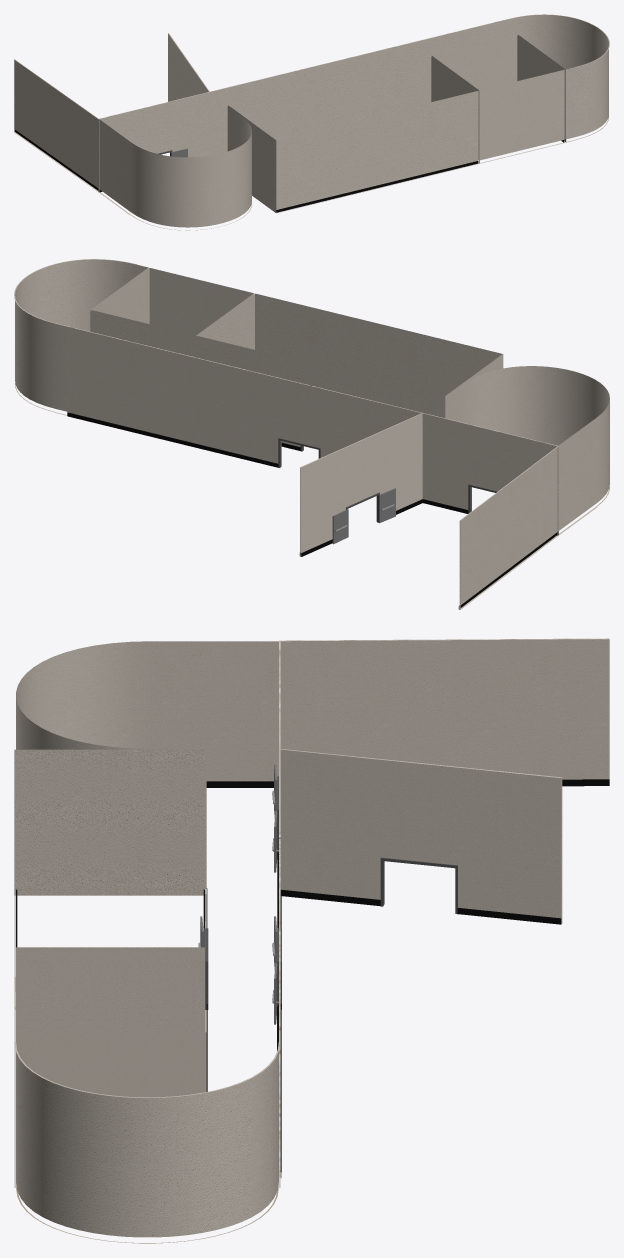
Rendered from new walls.fbx.
3 views of the same model, one above another, from view 1: azimuth 30°, elevation 25°; view 2: azimuth 150°, elevation 25°; view 3: azimuth 270°, elevation 25° (orthographic). The views are drawn at different scales.
Visible parts, largest first — view 1: Wall_Cafe Exterior, Wall_EH2 Exterior, Wall_Cafe+GIft Shop, Wall_Lobby+Hall+EH1+EH2, Wall_Cafe Interior1, Wall_EH3, Wall_EH1 Exterior, Wall_Cafe Interior2, WallDoorway_Cafe, WallDoorway_EH1+EH2, Wall_Lobby+EH1, WallDoorway_Lobby+Hall (+2 smaller); view 2: Wall_Lobby+Hall+EH1+EH2, Wall_EH2 Exterior, Wall_Cafe Exterior, Wall_EH3, Wall_Cafe+GIft Shop, Wall_EH1 Exterior, Wall_Lobby+EH1, Wall_Cafe Interior1, WallDoorway_Lobby+Hall, WallDoorway_EH1+EH2, WallDoorway_Lobby+EH1, WallDoorway_Cafe (+3 smaller); view 3: Wall_EH1 Exterior, Wall_EH3, Wall_Lobby+EH1, Wall_EH2 Exterior, Wall_Cafe Interior2, Wall_Cafe+GIft Shop, WallDoorway_Lobby+EH1, WallDoorway_Cafe+GIft Shop, Wall_Lobby+Hall+EH1+EH2.
Part boxes in pixels (x1,y1,x2,y2): Wall_Cafe Exterior: (276,90,478,213); Wall_EH2 Exterior: (99,105,251,230); Wall_Cafe+GIft Shop: (275,34,566,212); Wall_Lobby+Hall+EH1+EH2: (98,21,499,192); Wall_Cafe Interior1: (228,56,431,139); Wall_EH3: (500,14,609,142); Wall_EH1 Exterior: (14,59,99,191); Wall_Cafe Interior2: (229,106,276,212); WallDoorway_Cafe: (312,77,344,130); WallDoorway_EH1+EH2: (138,101,170,153); Wall_Lobby+EH1: (168,33,209,101); WallDoorway_Lobby+Hall: (294,63,326,88); Wall_Lobby+Hall+EH1+EH2: (67,326,558,535); Wall_EH2 Exterior: (444,366,609,535); Wall_Cafe Exterior: (255,293,502,396); Wall_EH3: (14,259,148,415); Wall_Cafe+GIft Shop: (90,267,254,357); Wall_EH1 Exterior: (458,446,557,609); Wall_Lobby+EH1: (299,413,422,556); Wall_Cafe Interior1: (196,336,444,450); WallDoorway_Lobby+Hall: (280,378,319,447); WallDoorway_EH1+EH2: (470,424,509,491); WallDoorway_Lobby+EH1: (346,433,377,506); WallDoorway_Cafe: (302,361,341,392); Wall_EH1 Exterior: (280,638,609,786); Wall_EH3: (14,1032,280,1243); Wall_Lobby+EH1: (280,749,562,924); Wall_EH2 Exterior: (16,641,278,895); Wall_Cafe Interior2: (14,749,205,895); Wall_Cafe+GIft Shop: (14,947,281,1178); WallDoorway_Lobby+EH1: (383,759,455,864); WallDoorway_Cafe+GIft Shop: (73,947,147,1031); Wall_Lobby+Hall+EH1+EH2: (277,640,281,1178).
Size of the model in its own units: 8184 by 1214 by 4481.
Materials: 5 (1 with a texture image).
